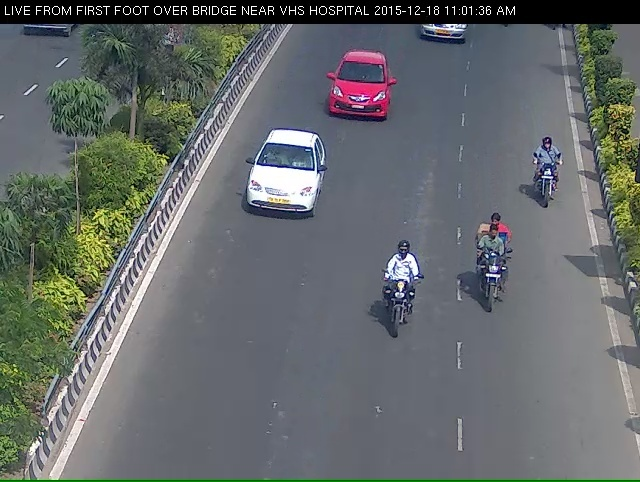Car: (219, 158, 318, 278), (392, 42, 476, 122)
Person: (523, 259, 587, 376), (195, 378, 265, 482), (349, 399, 400, 482), (441, 129, 481, 229), (494, 17, 528, 56), (288, 14, 323, 51), (440, 18, 475, 47)
